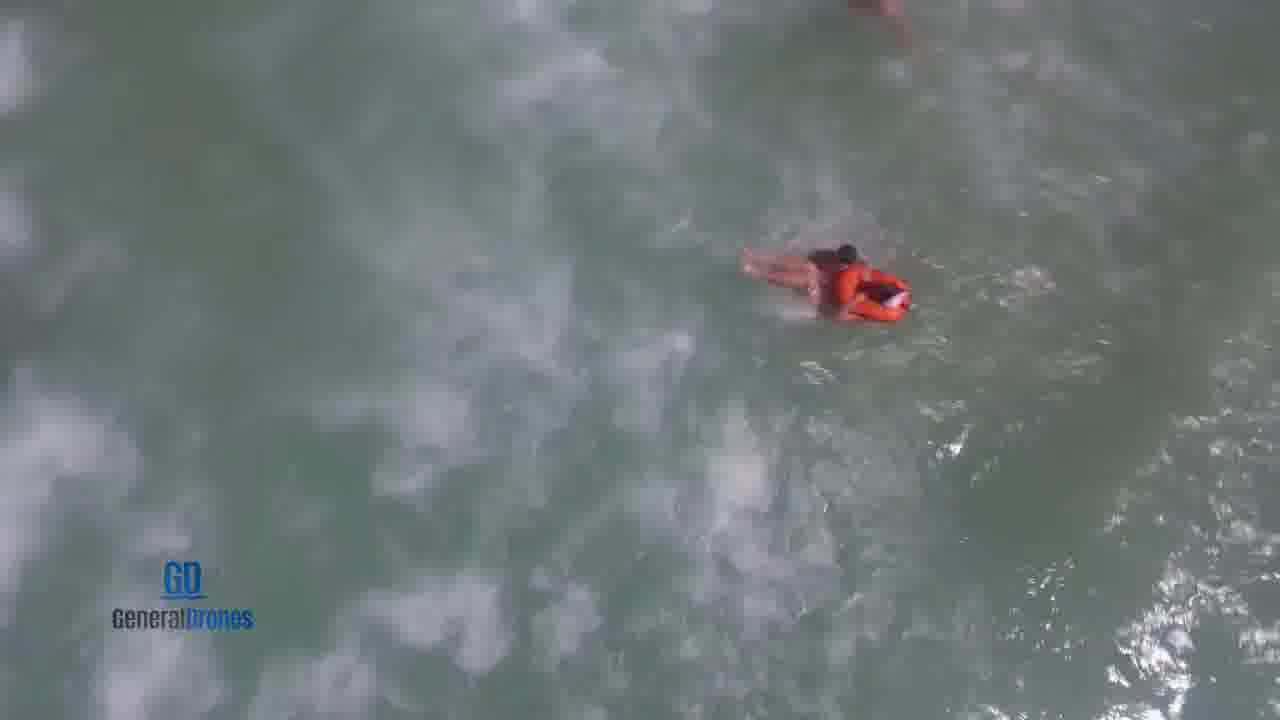human: (732, 241, 913, 323), (823, 225, 877, 268)
